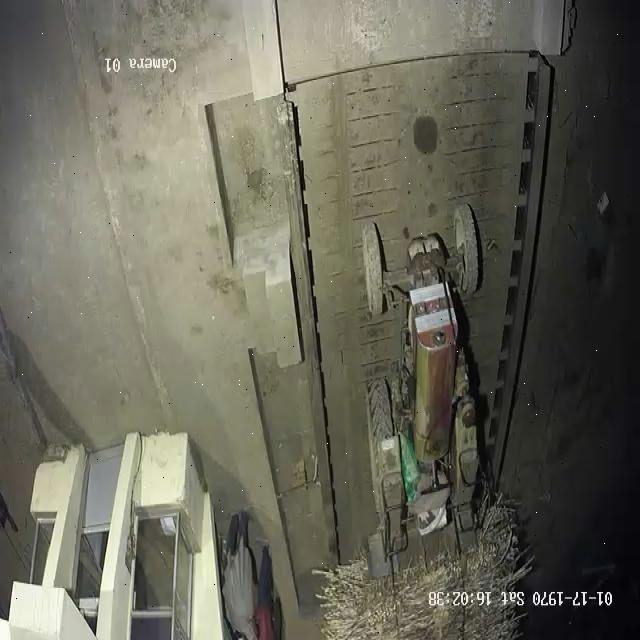Tratores - v5 YOLO V8L 2024-11-13: (354, 199, 494, 541)
